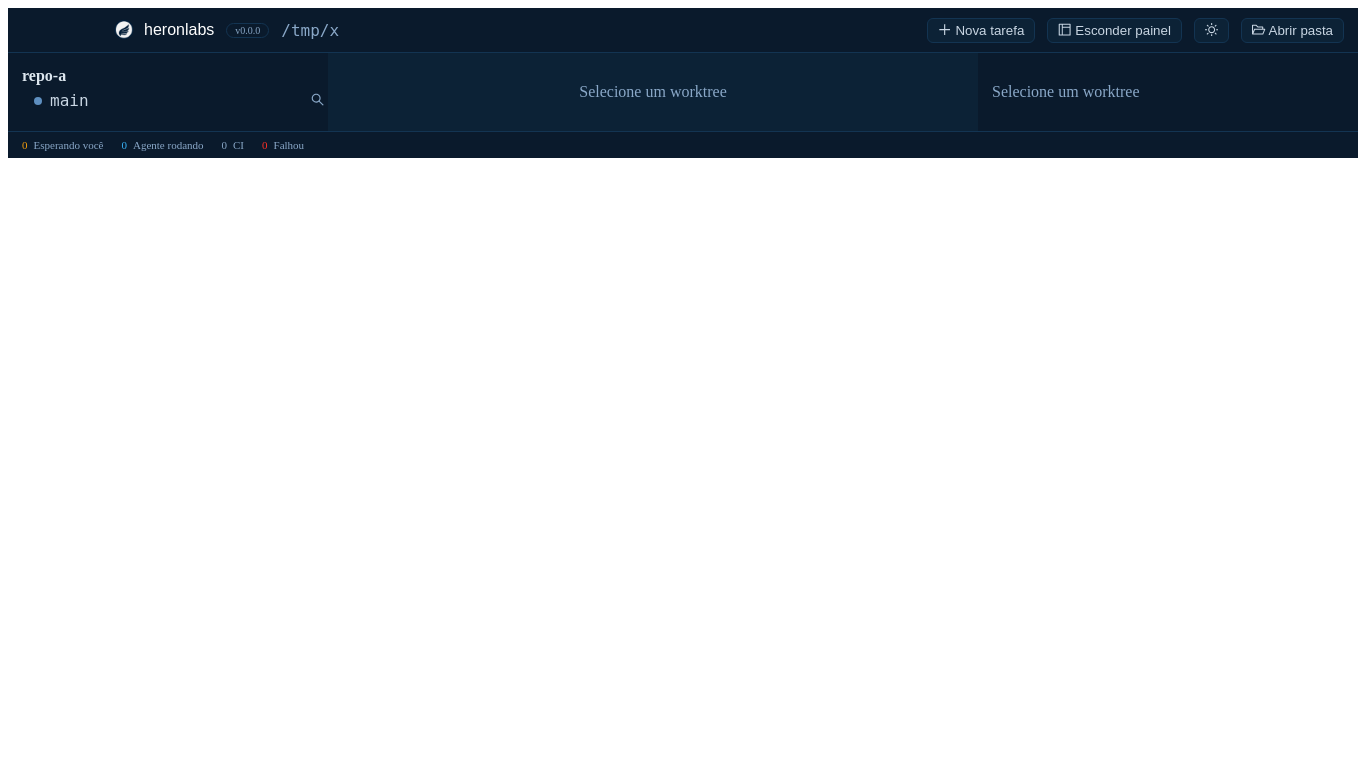
Scenario: AppShell › Should cancel the dialog
Click the button "Nova tarefa" at (981, 30), box [927,18,1035,42]
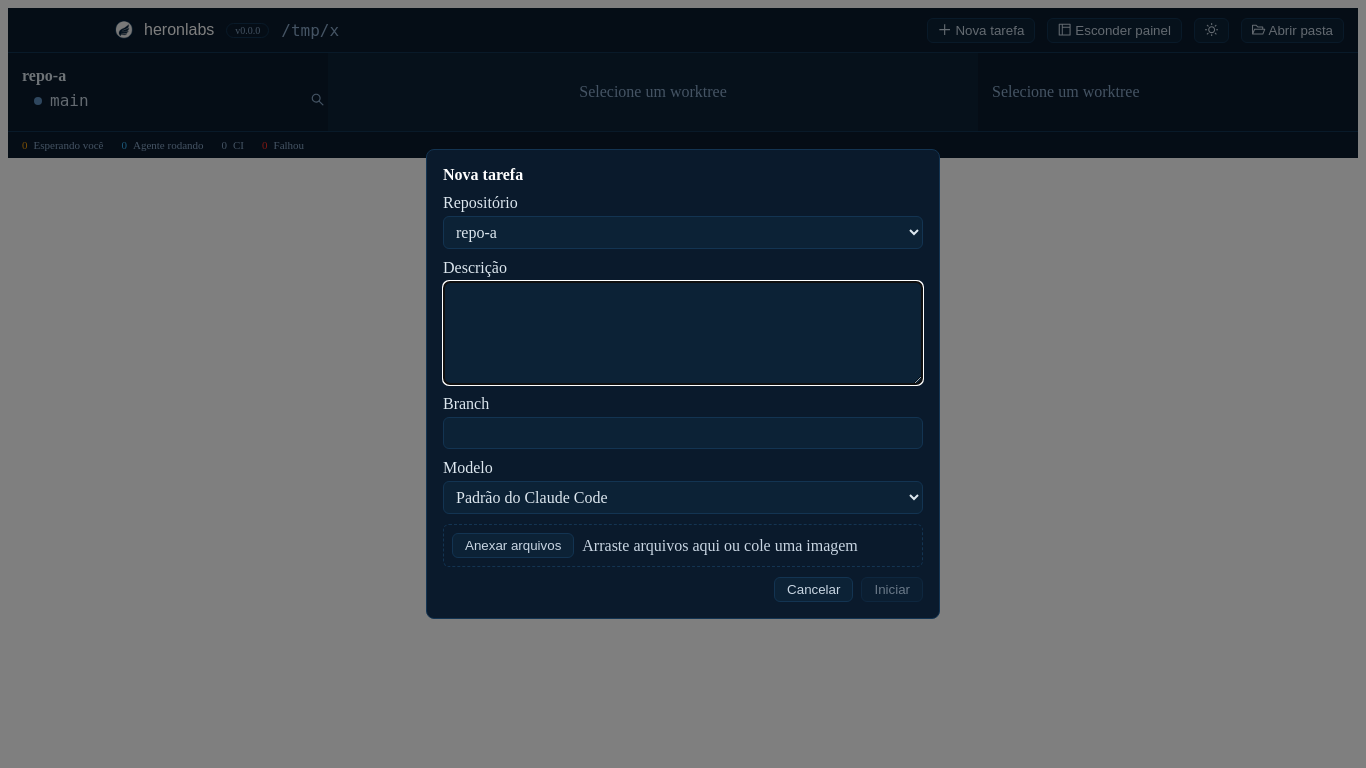
Press Escape
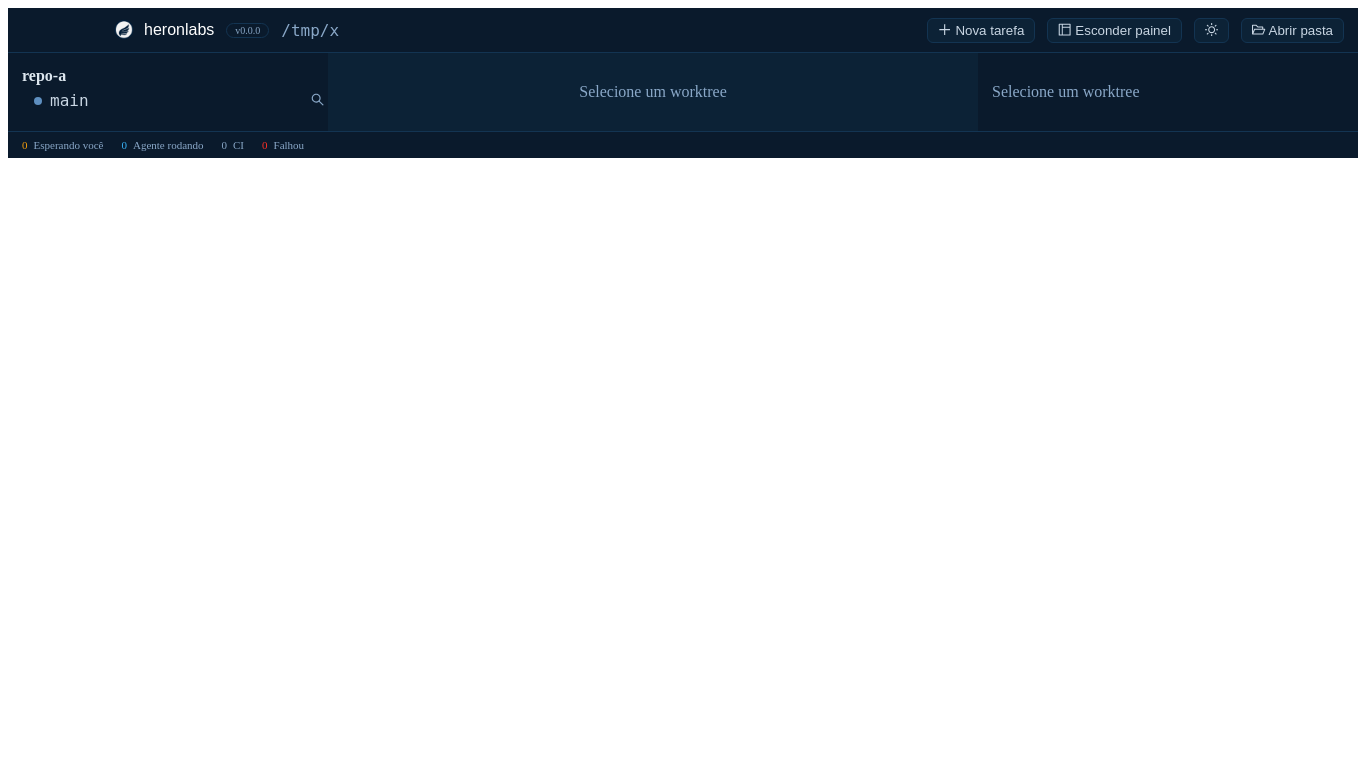
Now the dialog is gone
